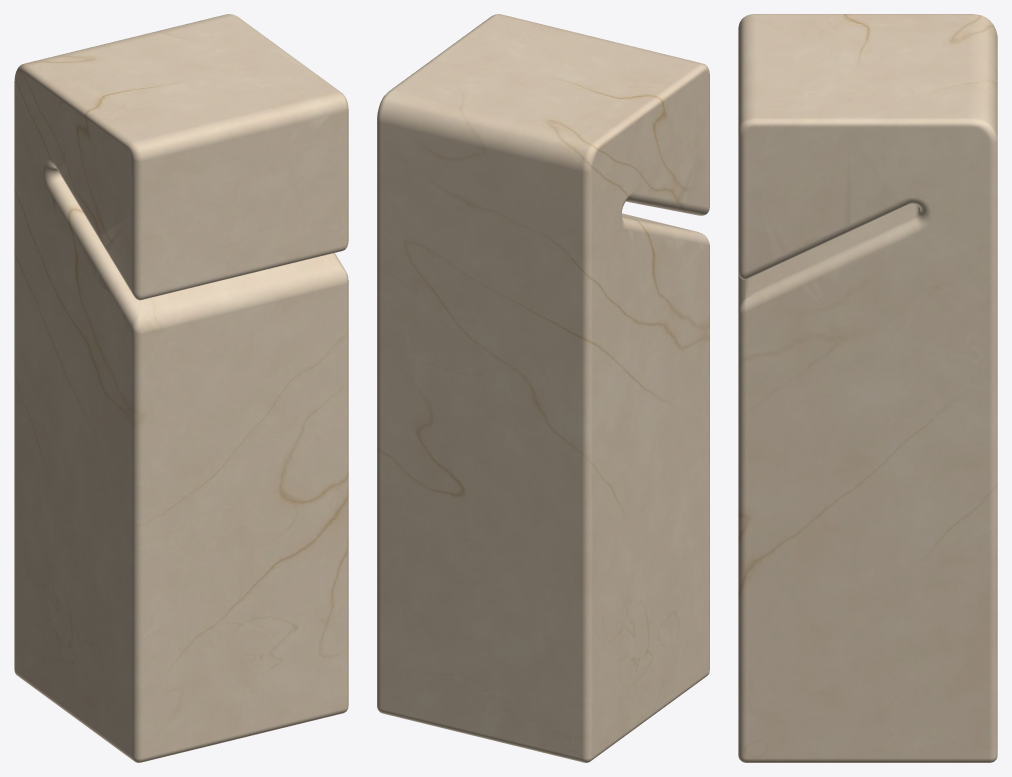
File: knight-white-hd.glb
3 renders of one model, left to right at view 1: azimuth 30°, elevation 25°; view 2: azimuth 150°, elevation 25°; view 3: azimuth 270°, elevation 25°, orthographic. The views are drawn at different scales.
Parts seen in each view (by area): view 1: jezdec_bily; view 2: jezdec_bily; view 3: jezdec_bily.
Boxes of the visible parts, left/top/right/bottom form: jezdec_bily: left=14, top=14, right=348, bottom=762; jezdec_bily: left=377, top=14, right=709, bottom=762; jezdec_bily: left=738, top=14, right=997, bottom=762.
Bounding box in the file's own units: 0.4304 × 1.18 × 0.4304.
Materials: 1 (1 with a texture image).
